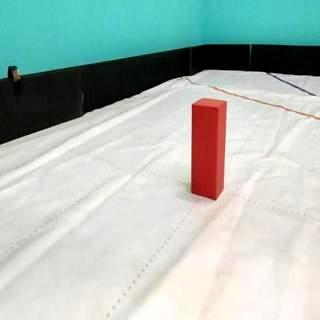redbox: (191, 96, 227, 200)
